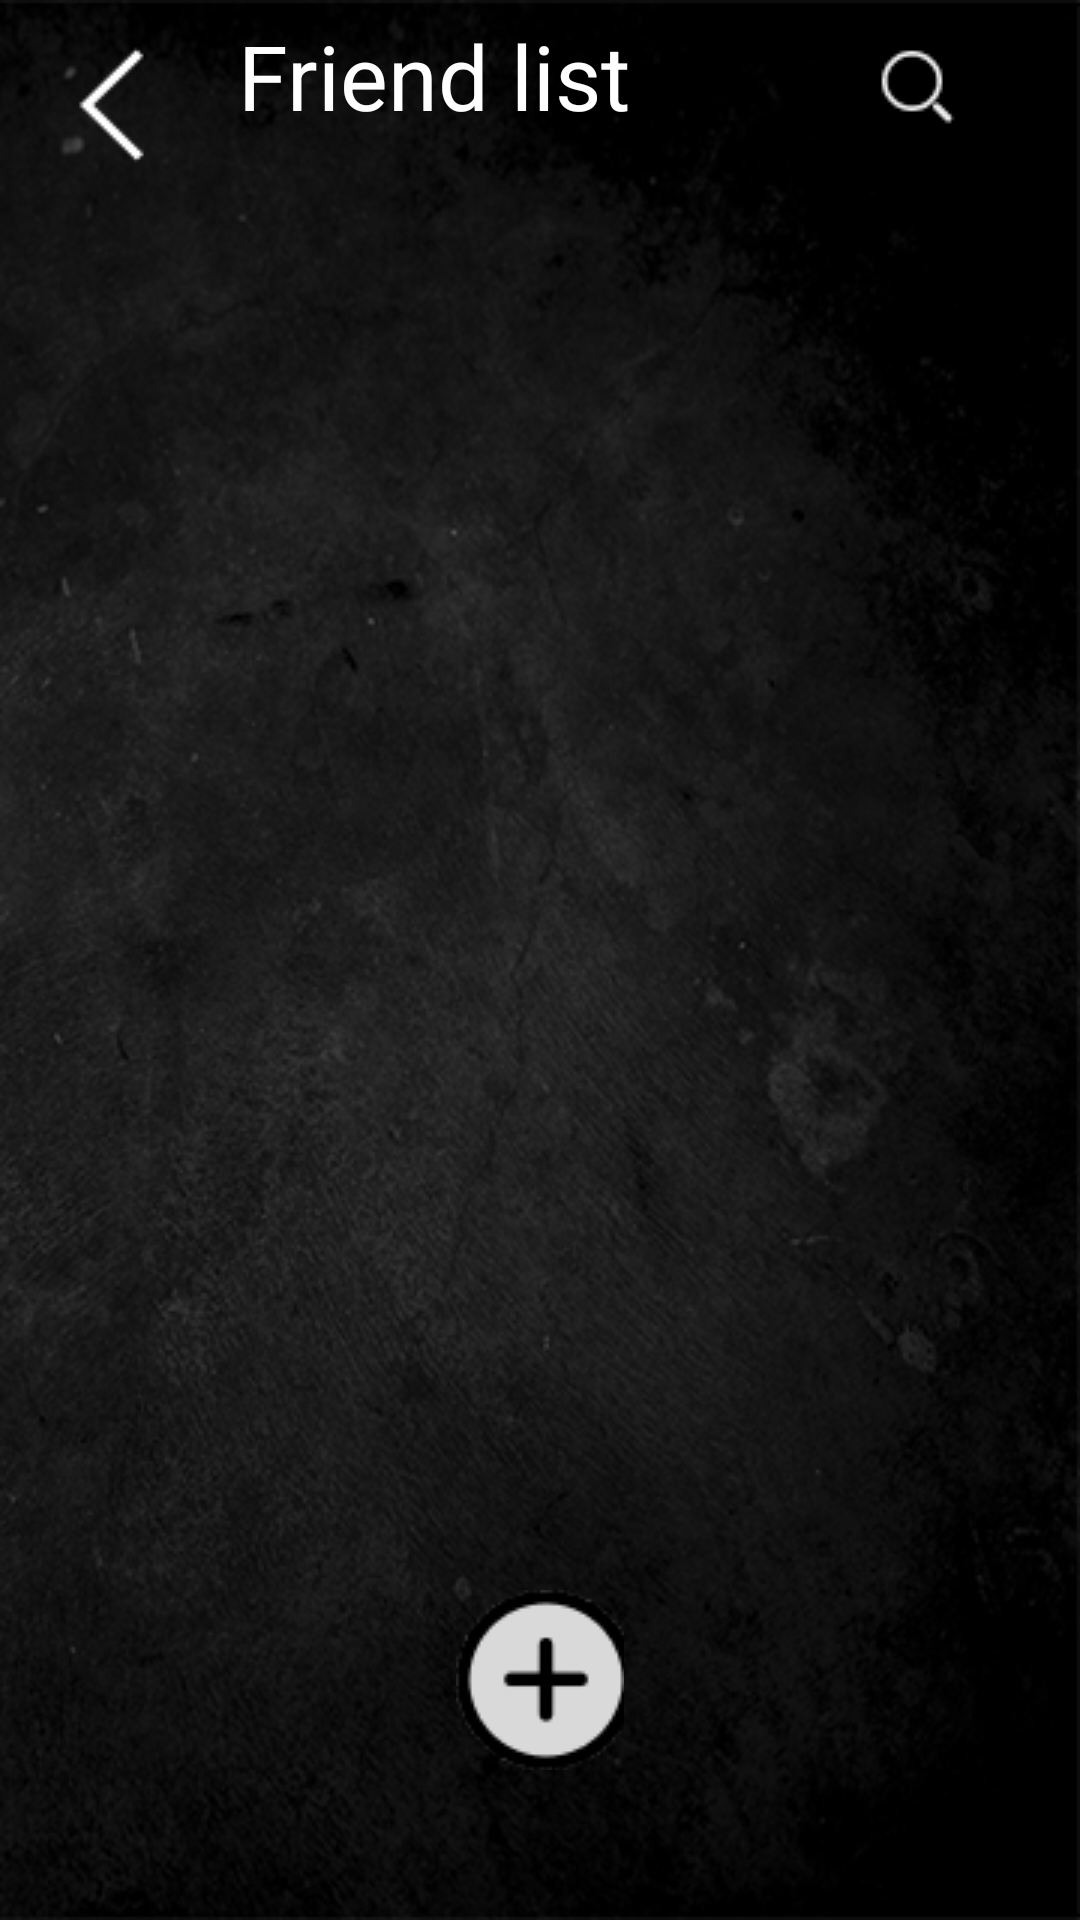

Where icons sit on this 1080 x 1920 app screen, as bbox(x1, y1, x2, y2):
add event: bbox(456, 1590, 624, 1760)
backbutton: bbox(63, 49, 144, 161)
search: bbox(881, 50, 954, 124)
